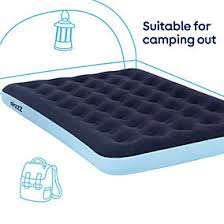bed-matress: (1, 68, 224, 177)
